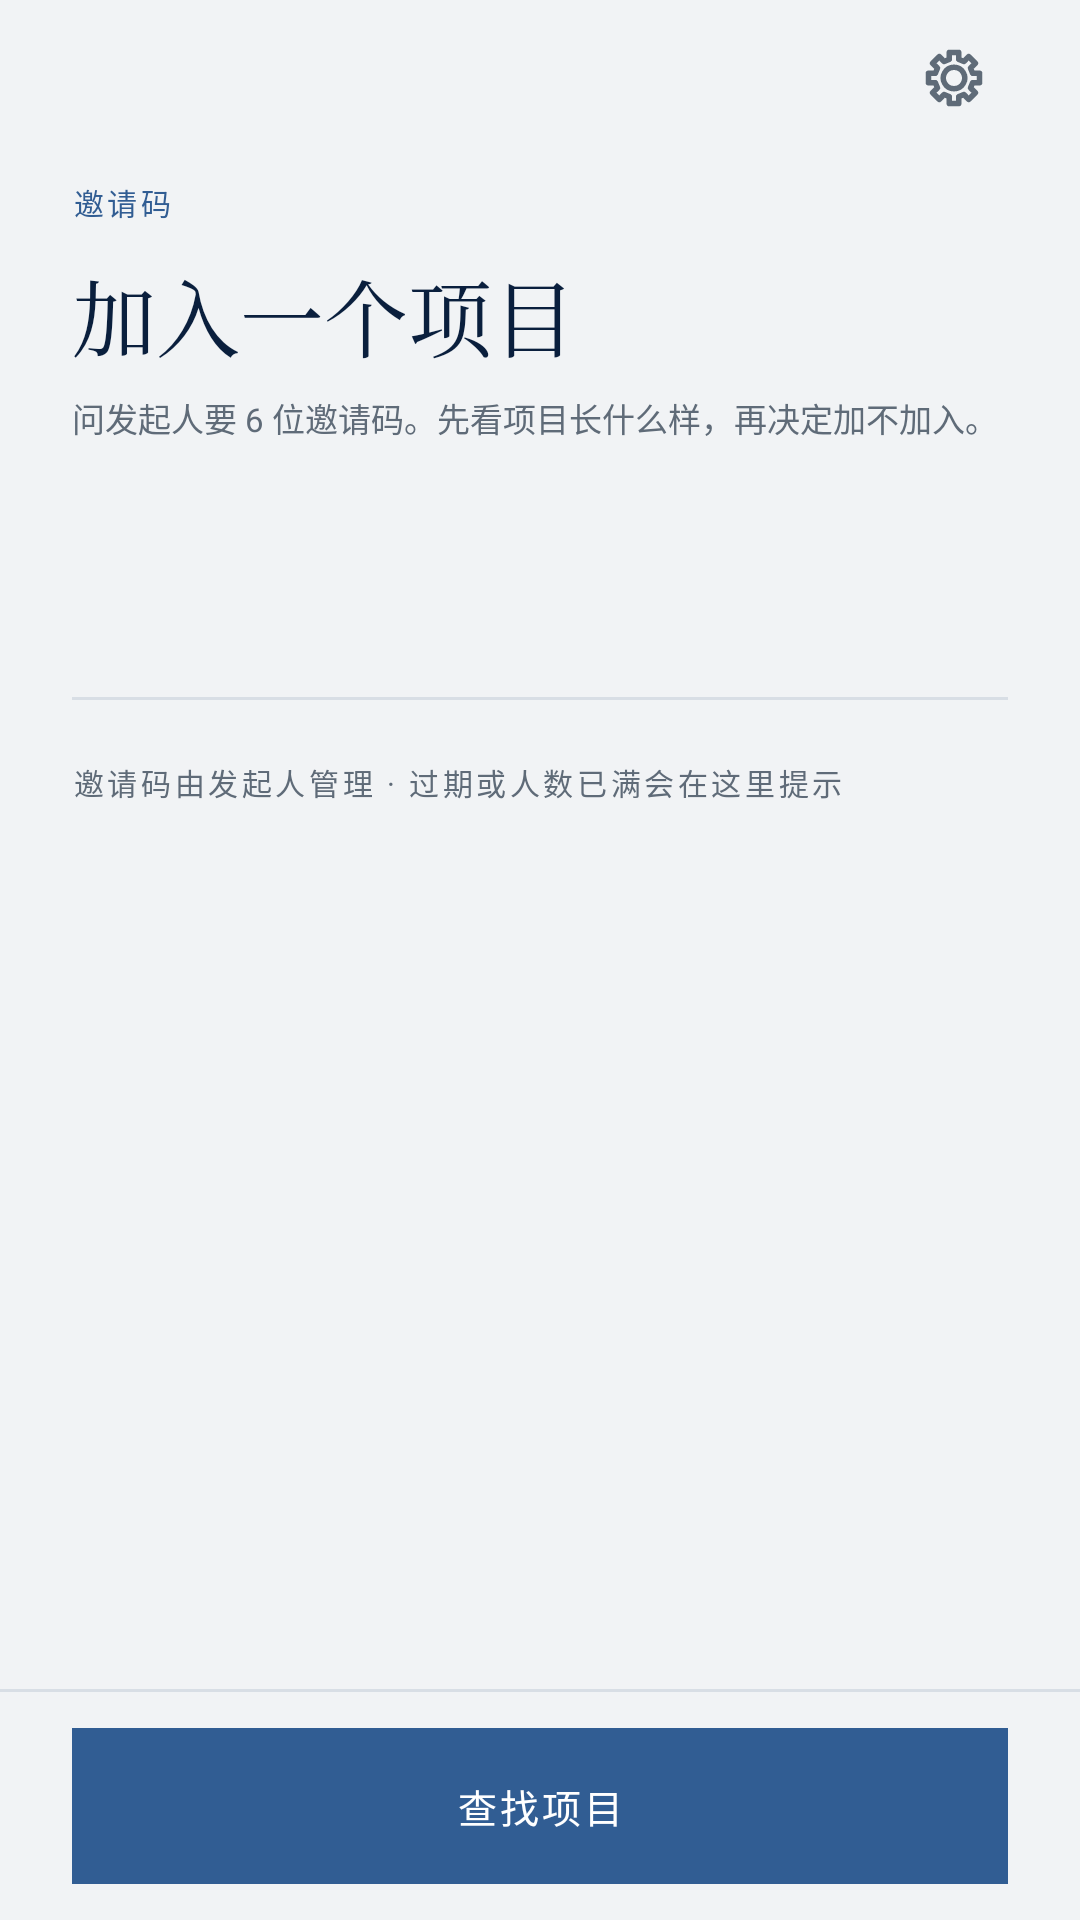

Icon click points for this 1080x1920 phone screenshot, format (x=x, y=y):
设置: (x=954, y=78)
